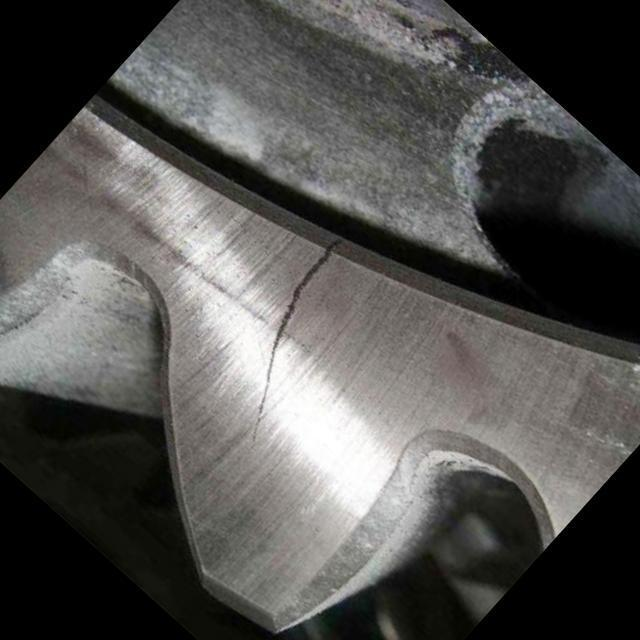defect: (245, 233, 350, 449)
